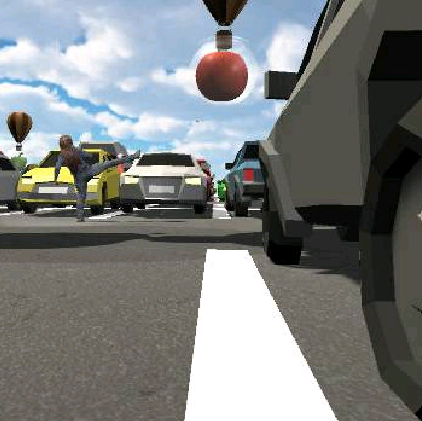turn_right: (52, 130, 143, 225)
